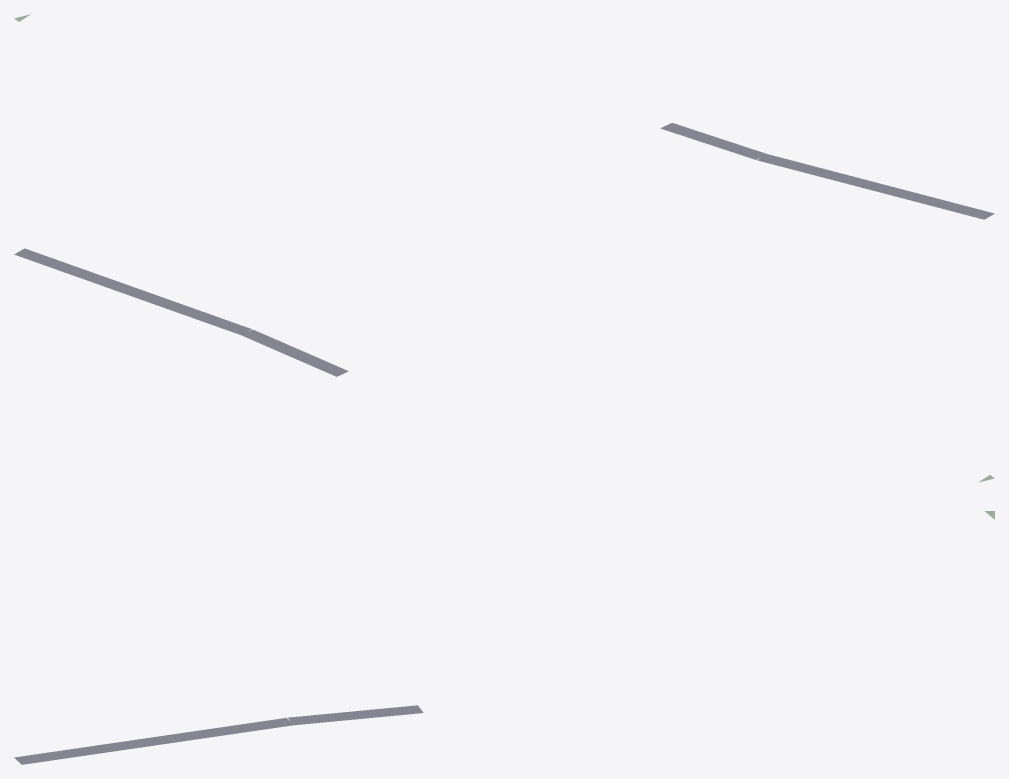
Rendered from 130_128_mid.glb.
The picture shows the model from 3 angles, top to bottom: view 1: azimuth 30°, elevation 25°; view 2: azimuth 210°, elevation 25°; view 3: azimuth 270°, elevation 25°; orthographic projection. The views are drawn at different scales.
Size of the model in its own units: 232 by 6.72 by 358.
